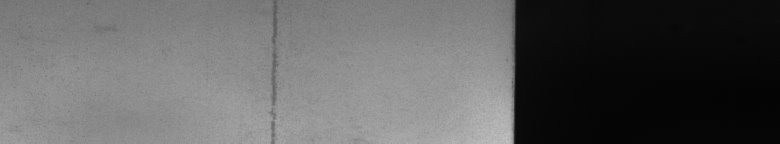hd: (268, 4, 280, 136)
